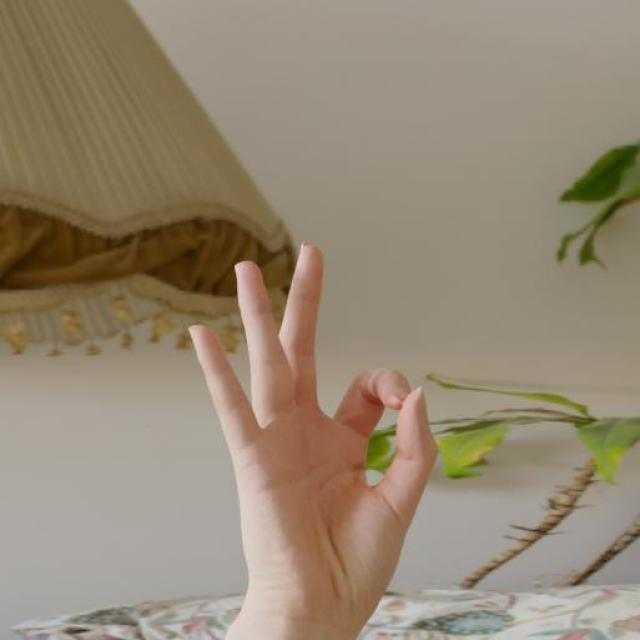F: (185, 238, 443, 618)
